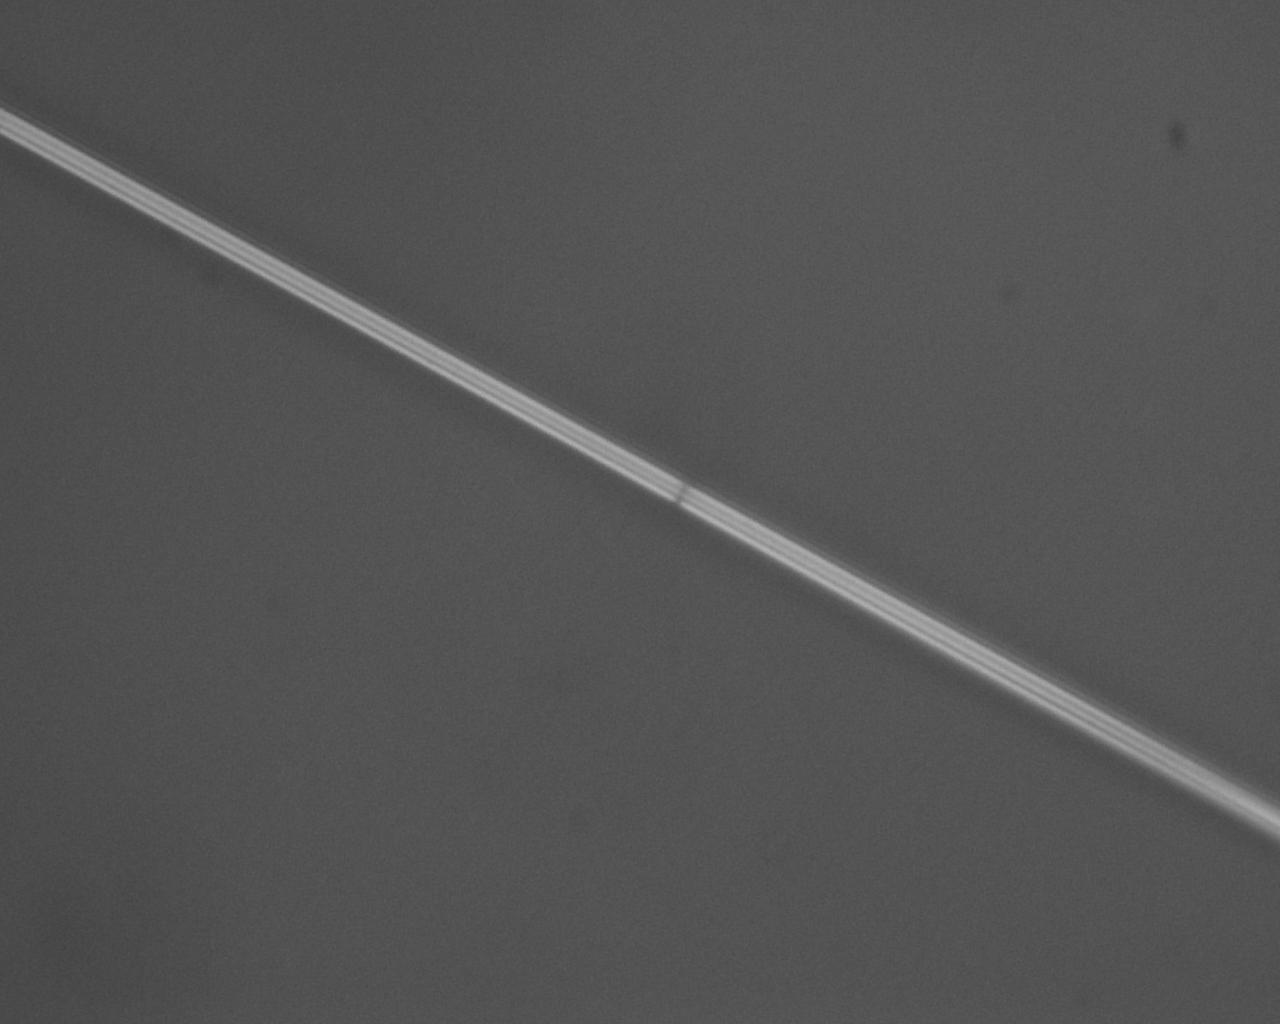fiber: (127, 469, 1151, 565)
